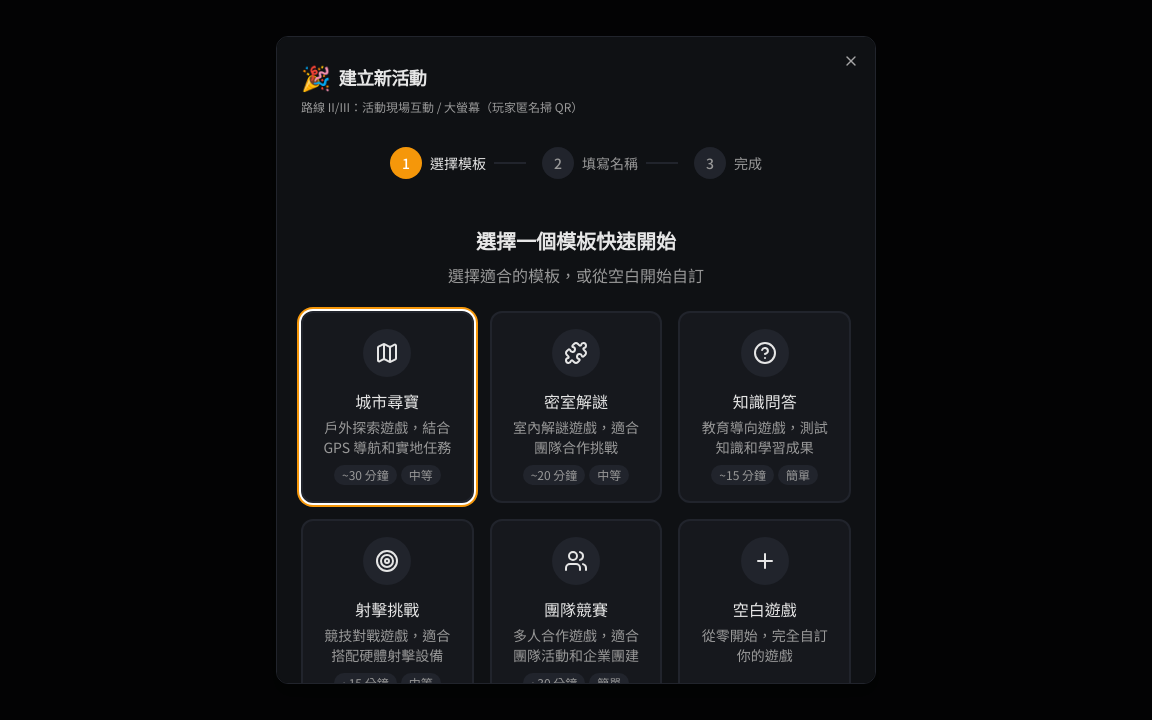
Test: GameWizard 發布遊戲 › 發布失敗（後端把關 400 + 錯誤清單）→ 顯示原因與每一項問題、精靈不關
Click the button with test id "^template-card-": (387, 407) [301,311,474,503]
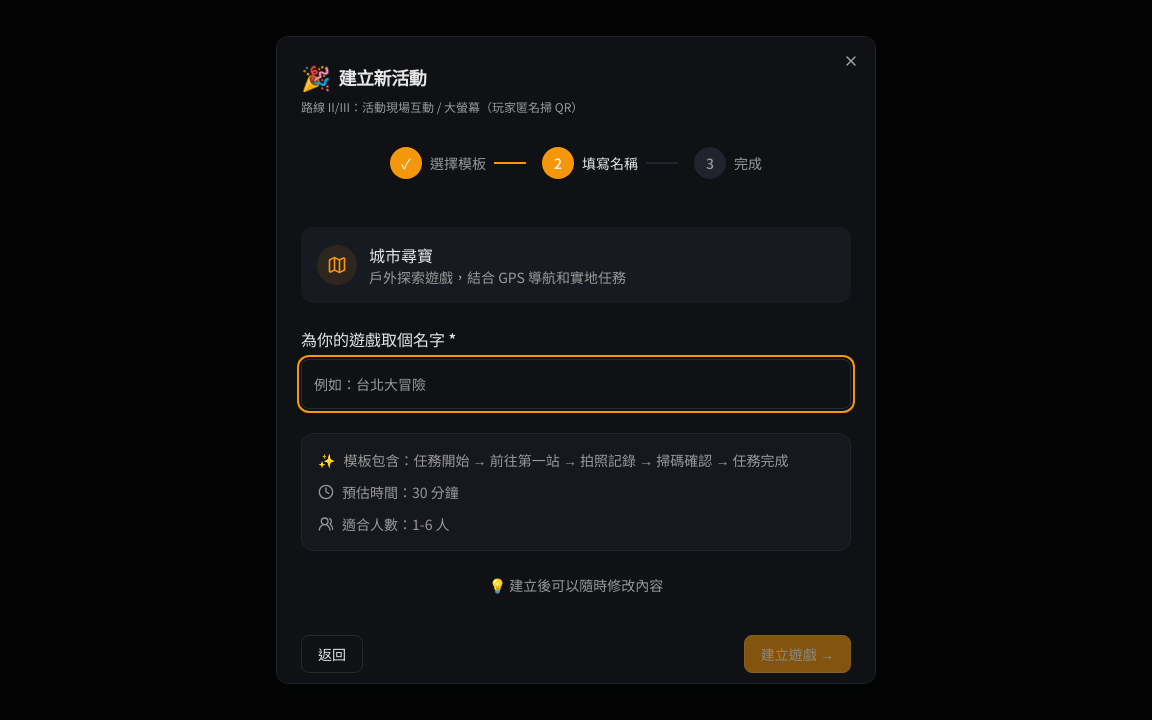
In the field with test id "input-game-name": (576, 384) [301,359,851,409], type "我的遊戲"
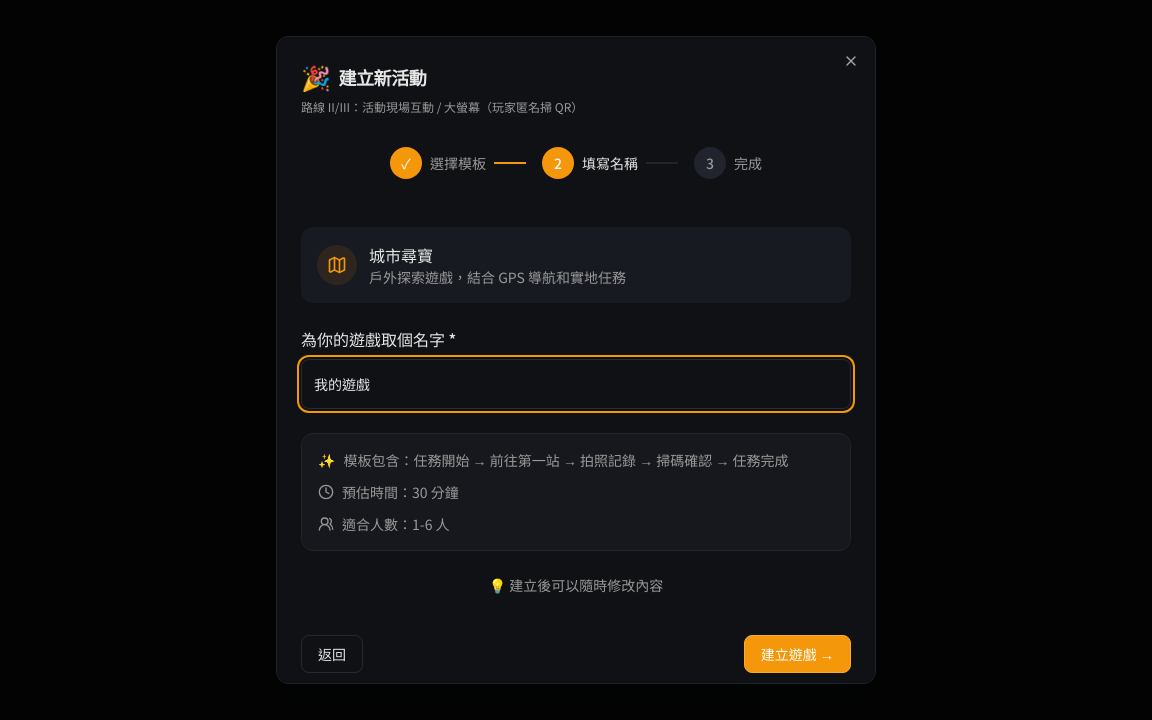
Click the button with test id "button-create-game": (797, 654) [744,635,851,673]
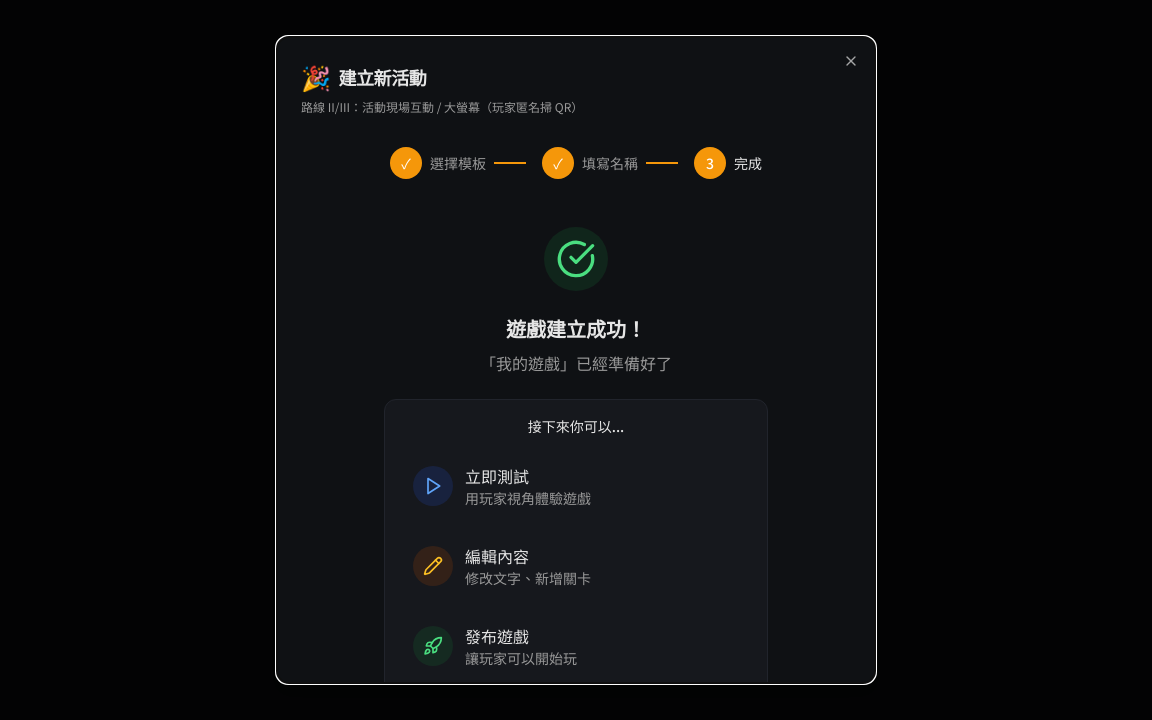
expect the heading "遊戲建立成功！" is shown: met, box [506,314,646,343]
Click the button with test id "button-publish-game": (576, 646) [401,612,751,680]
(page scrolled)
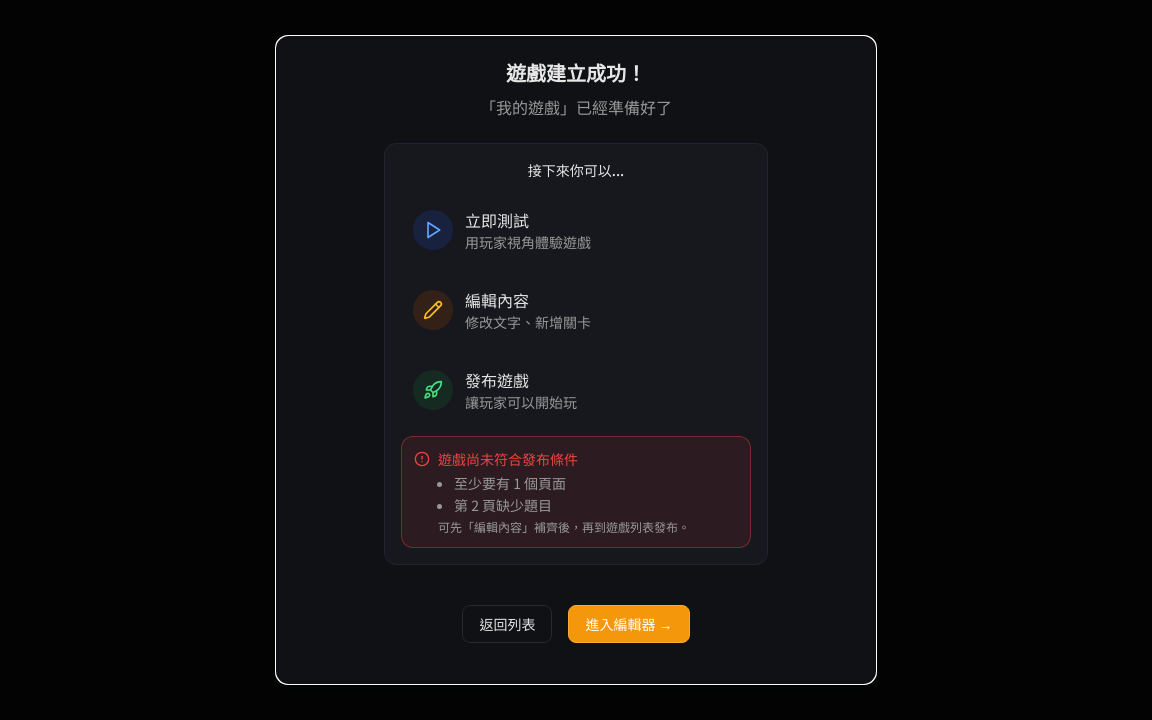
expect the message with test id "publish-error" shows "遊戲尚未符合發布條件": met, box [438,449,578,469]
expect the message with test id "publish-error" shows "至少要有 1 個頁面": met, box [454,473,566,493]
expect the message with test id "publish-error" shows "第 2 頁缺少題目": met, box [454,495,552,515]
